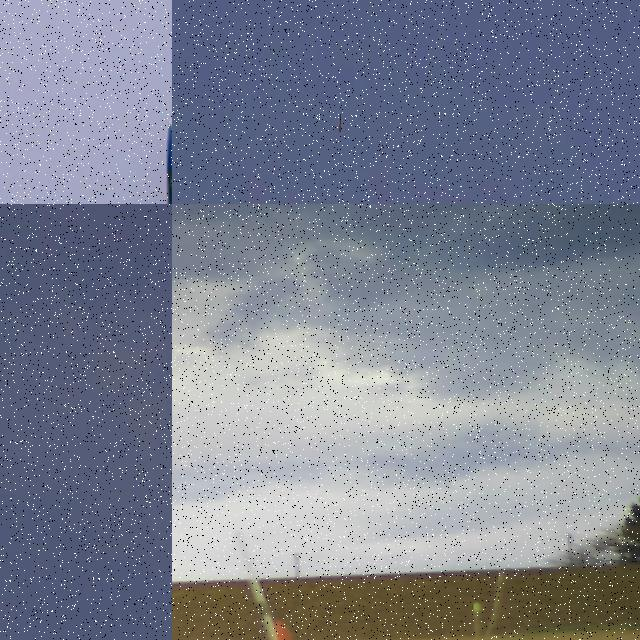Rocket: (154, 120, 172, 204), (270, 619, 322, 640), (339, 114, 341, 132)
